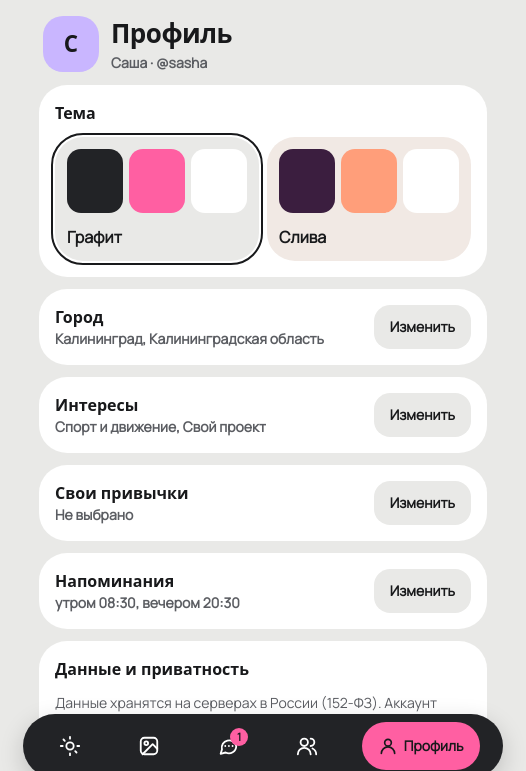
Test: Profile › changes the city and reminders after onboarding (US-02)
Expected: the text "Калининград, Калининградская область" is shown, 55,329 -> 324,349
Click the button "Изменить" next to "Калининград, Калининградская область". click: (422,327)
box: 374,305 -> 471,349
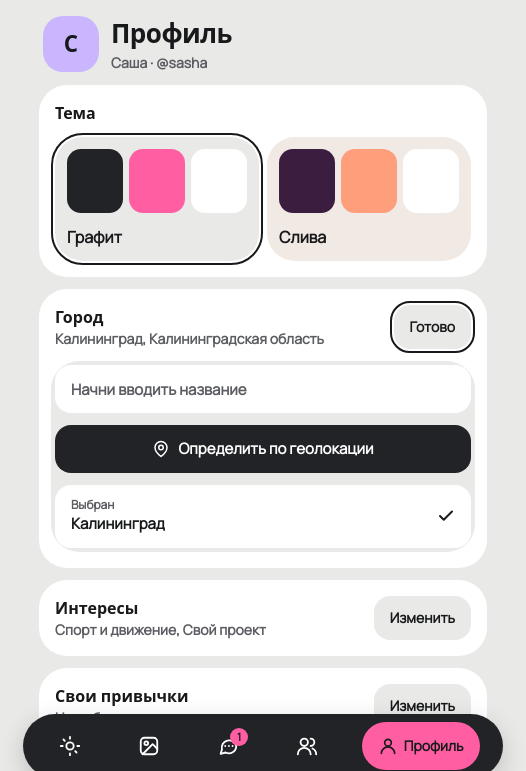
Type "Каз" into the search field named "Город". click: (263,389)
box: 55,365 -> 471,413
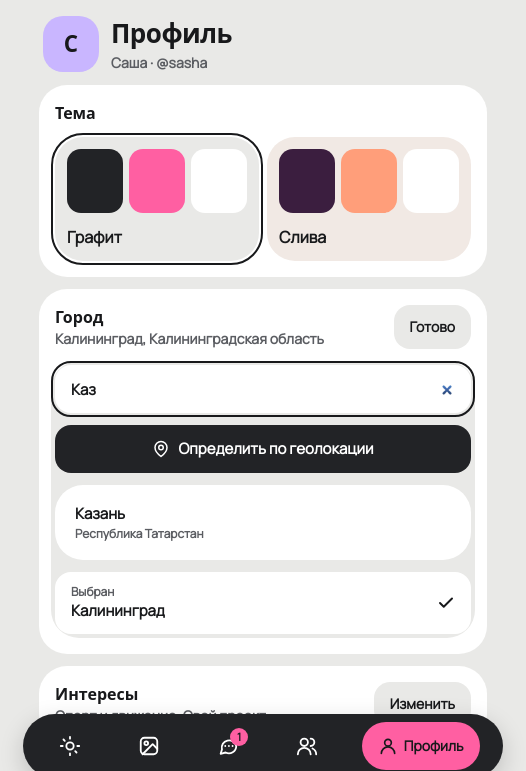
Click the button "Казань Республика Татарстан". click: (100,514)
box: 63,493 -> 463,552
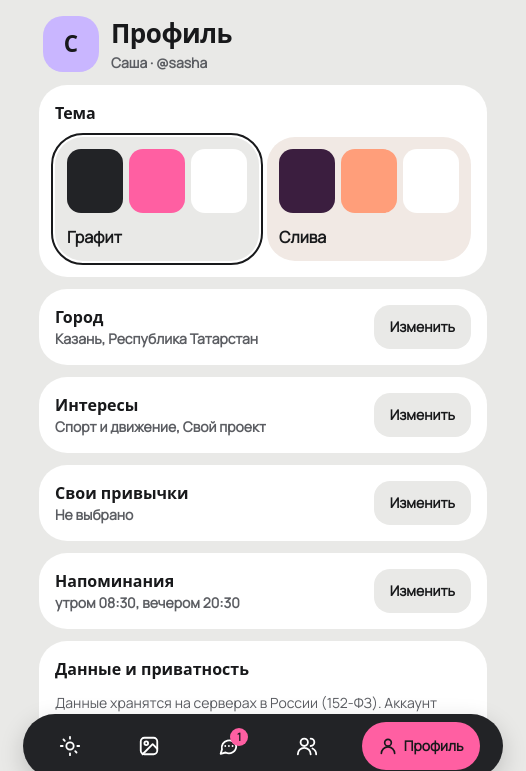
Expected: the text "Казань, Республика Татарстан" is shown, 55,329 -> 258,349
Click the button "Изменить" next to "утром 08:30, вечером 20:30". click: (422,591)
box: 374,569 -> 471,613
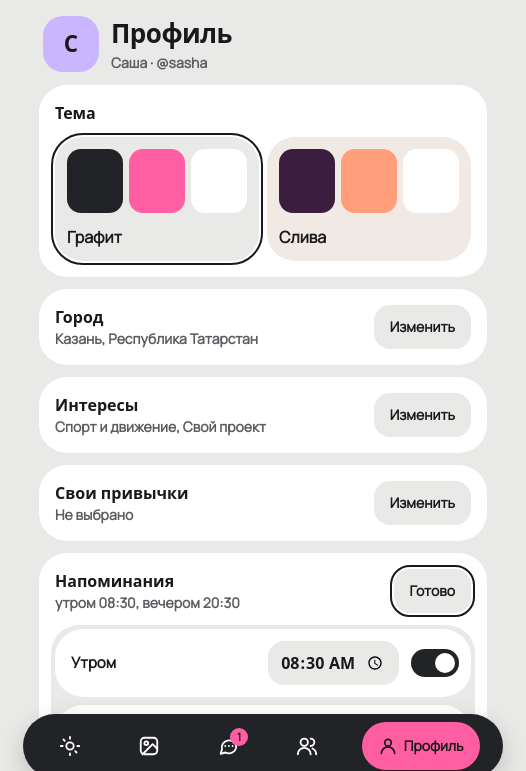
Click the switch labelled "Утром". click: (435,663)
box: 411,649 -> 459,677
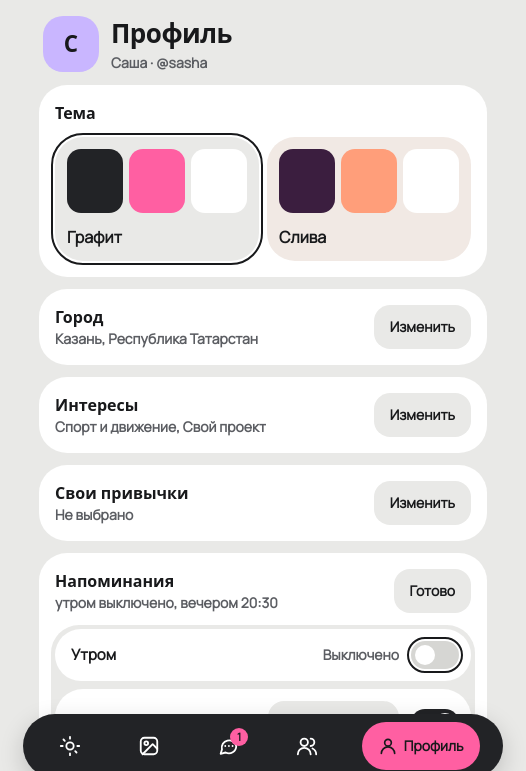
Expected: the text "утром выключено, вечером 20:30" is shown, 55,593 -> 278,613
